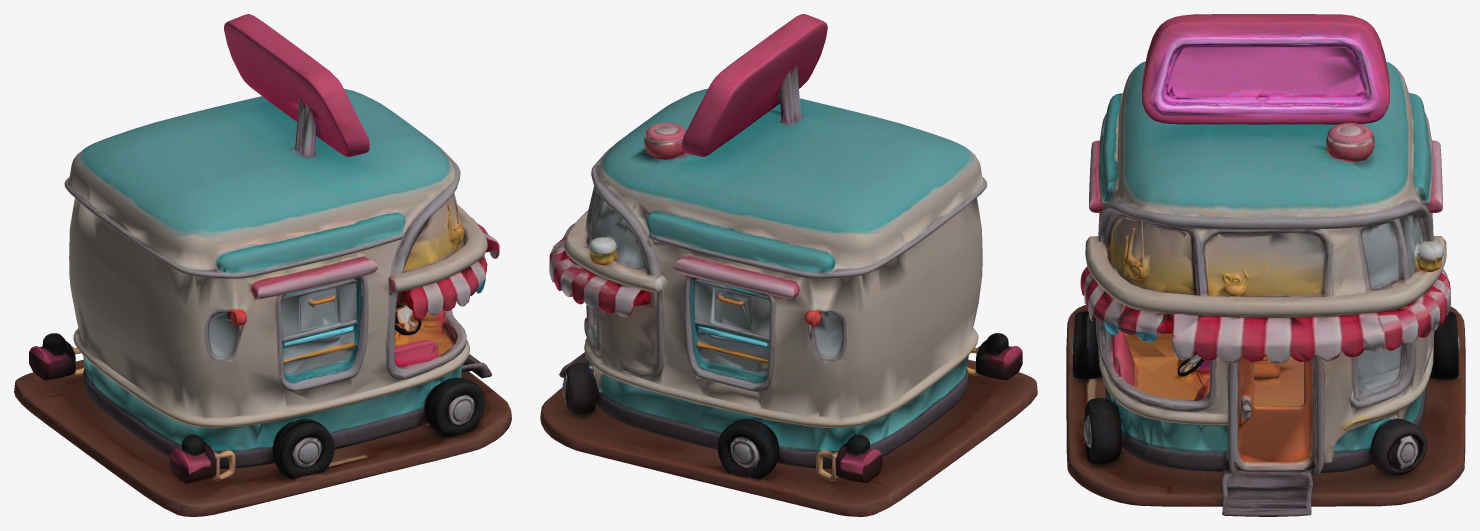
Rendered from retro-diner-diet.glb.
3 views of the same model, side by side, from view 1: azimuth 30°, elevation 25°; view 2: azimuth 150°, elevation 25°; view 3: azimuth 270°, elevation 25° (orthographic). The views are drawn at different scales.
Visible parts, largest first — view 1: tripo_node_5d607cb0-75e1-428b-9ed3-d7106fcd2168; view 2: tripo_node_5d607cb0-75e1-428b-9ed3-d7106fcd2168; view 3: tripo_node_5d607cb0-75e1-428b-9ed3-d7106fcd2168.
Part boxes in pixels (bbox=[...]): tripo_node_5d607cb0-75e1-428b-9ed3-d7106fcd2168: bbox=[14, 14, 511, 516]; tripo_node_5d607cb0-75e1-428b-9ed3-d7106fcd2168: bbox=[540, 14, 1037, 516]; tripo_node_5d607cb0-75e1-428b-9ed3-d7106fcd2168: bbox=[1066, 14, 1465, 516].
Size of the model in its own units: 0.9809 by 0.8904 by 0.8054.
1 material, 1 textured.
